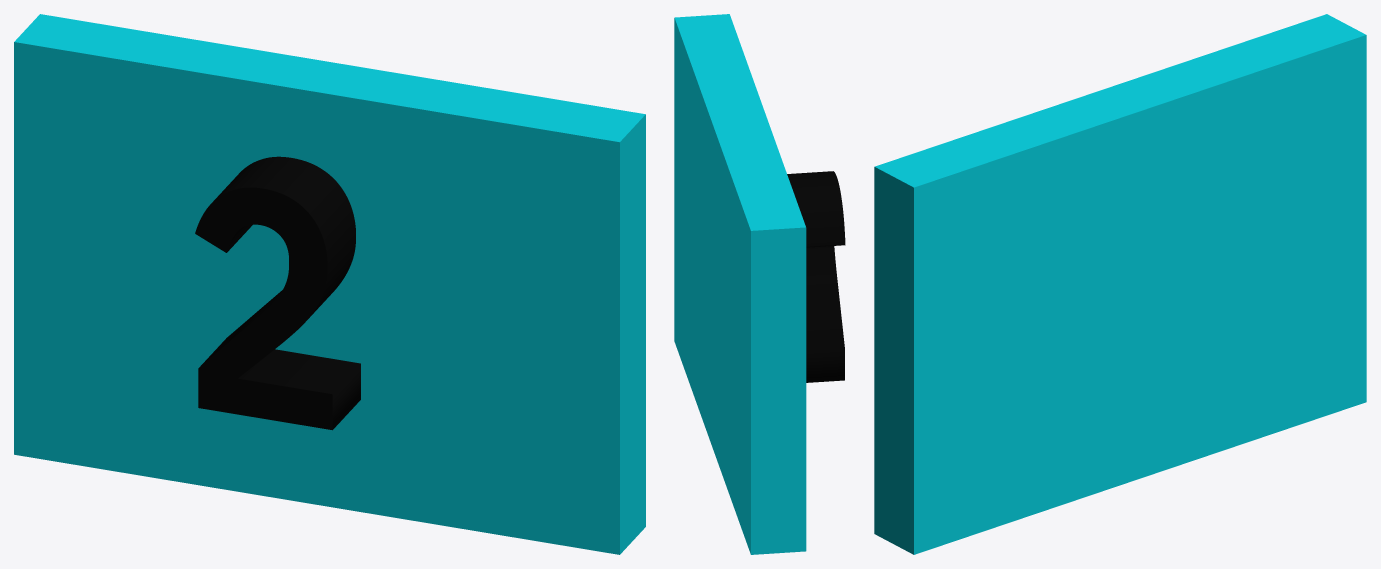
Rendered from tagblue2_3.glb.
The picture shows the model from 3 angles, left to right: view 1: azimuth 30°, elevation 25°; view 2: azimuth 150°, elevation 25°; view 3: azimuth 270°, elevation 25°; orthographic projection. The views are drawn at different scales.
Visible parts, largest first — view 1: Plane.026, Text.021; view 2: Plane.026, Text.021; view 3: Plane.026.
Part boxes in pixels (<box>): Plane.026: <box>14,14,645,554</box>; Text.021: <box>195,156,360,430</box>; Plane.026: <box>674,14,806,554</box>; Text.021: <box>787,171,845,382</box>; Plane.026: <box>874,14,1366,554</box>.
Size of the model in its own units: 0.1419 by 0.14 by 0.1699.
